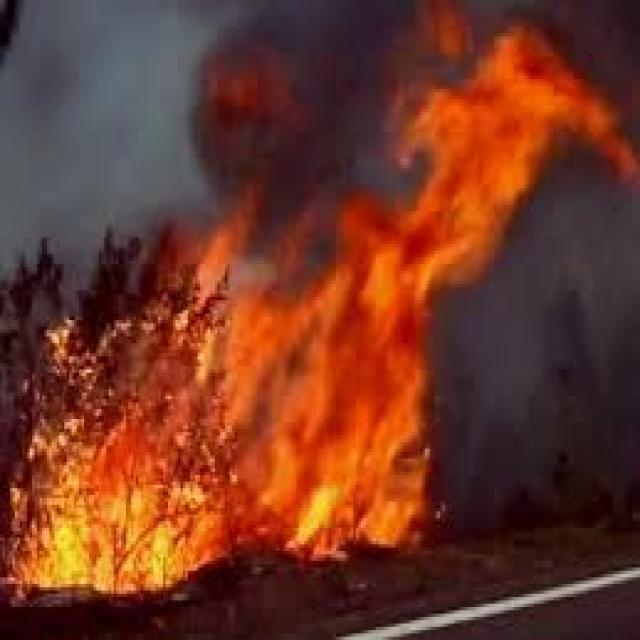Fire: (222, 264, 418, 542), (50, 301, 212, 574), (32, 384, 179, 594), (421, 57, 506, 219), (500, 21, 583, 150), (296, 484, 342, 548)
Smoke: (448, 221, 626, 544), (196, 26, 404, 220), (526, 161, 628, 431)
